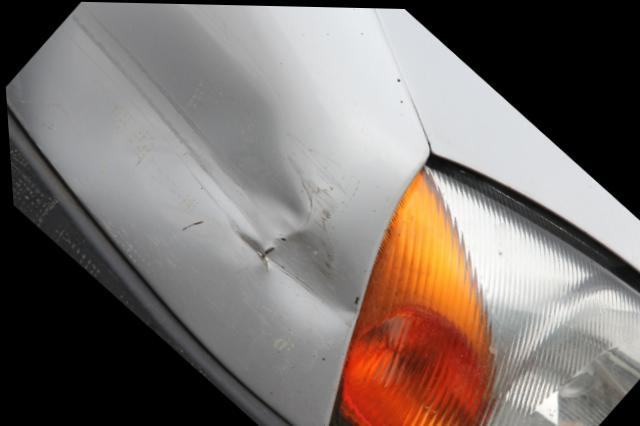dent: (33, 1, 354, 326)
scratch: (101, 218, 347, 377), (8, 145, 129, 313), (279, 131, 358, 235)
